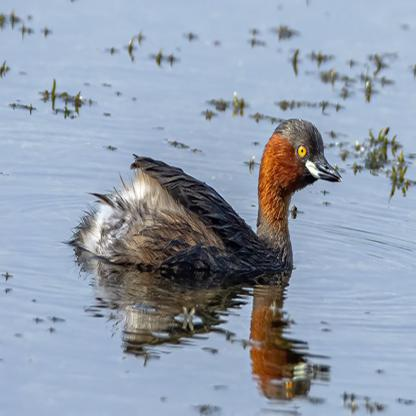Burung: (71, 118, 341, 280)
